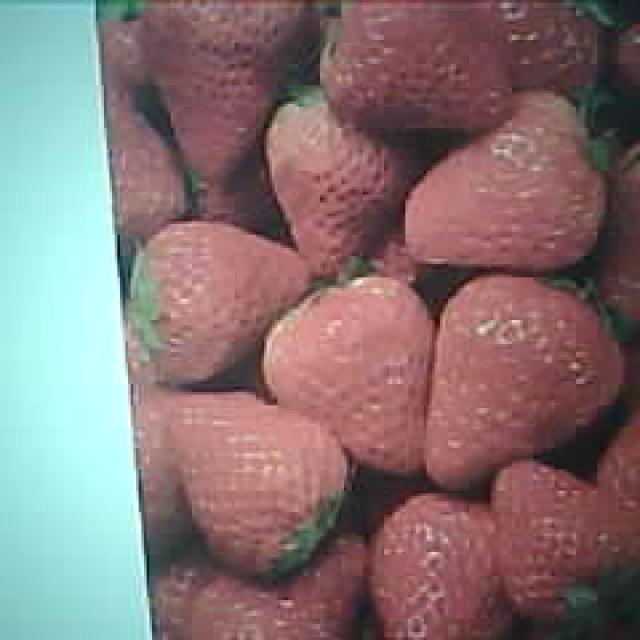strawberry: (428, 274, 624, 486), (404, 97, 614, 274), (169, 388, 348, 578), (263, 273, 428, 477), (143, 224, 308, 382), (328, 0, 512, 133)
